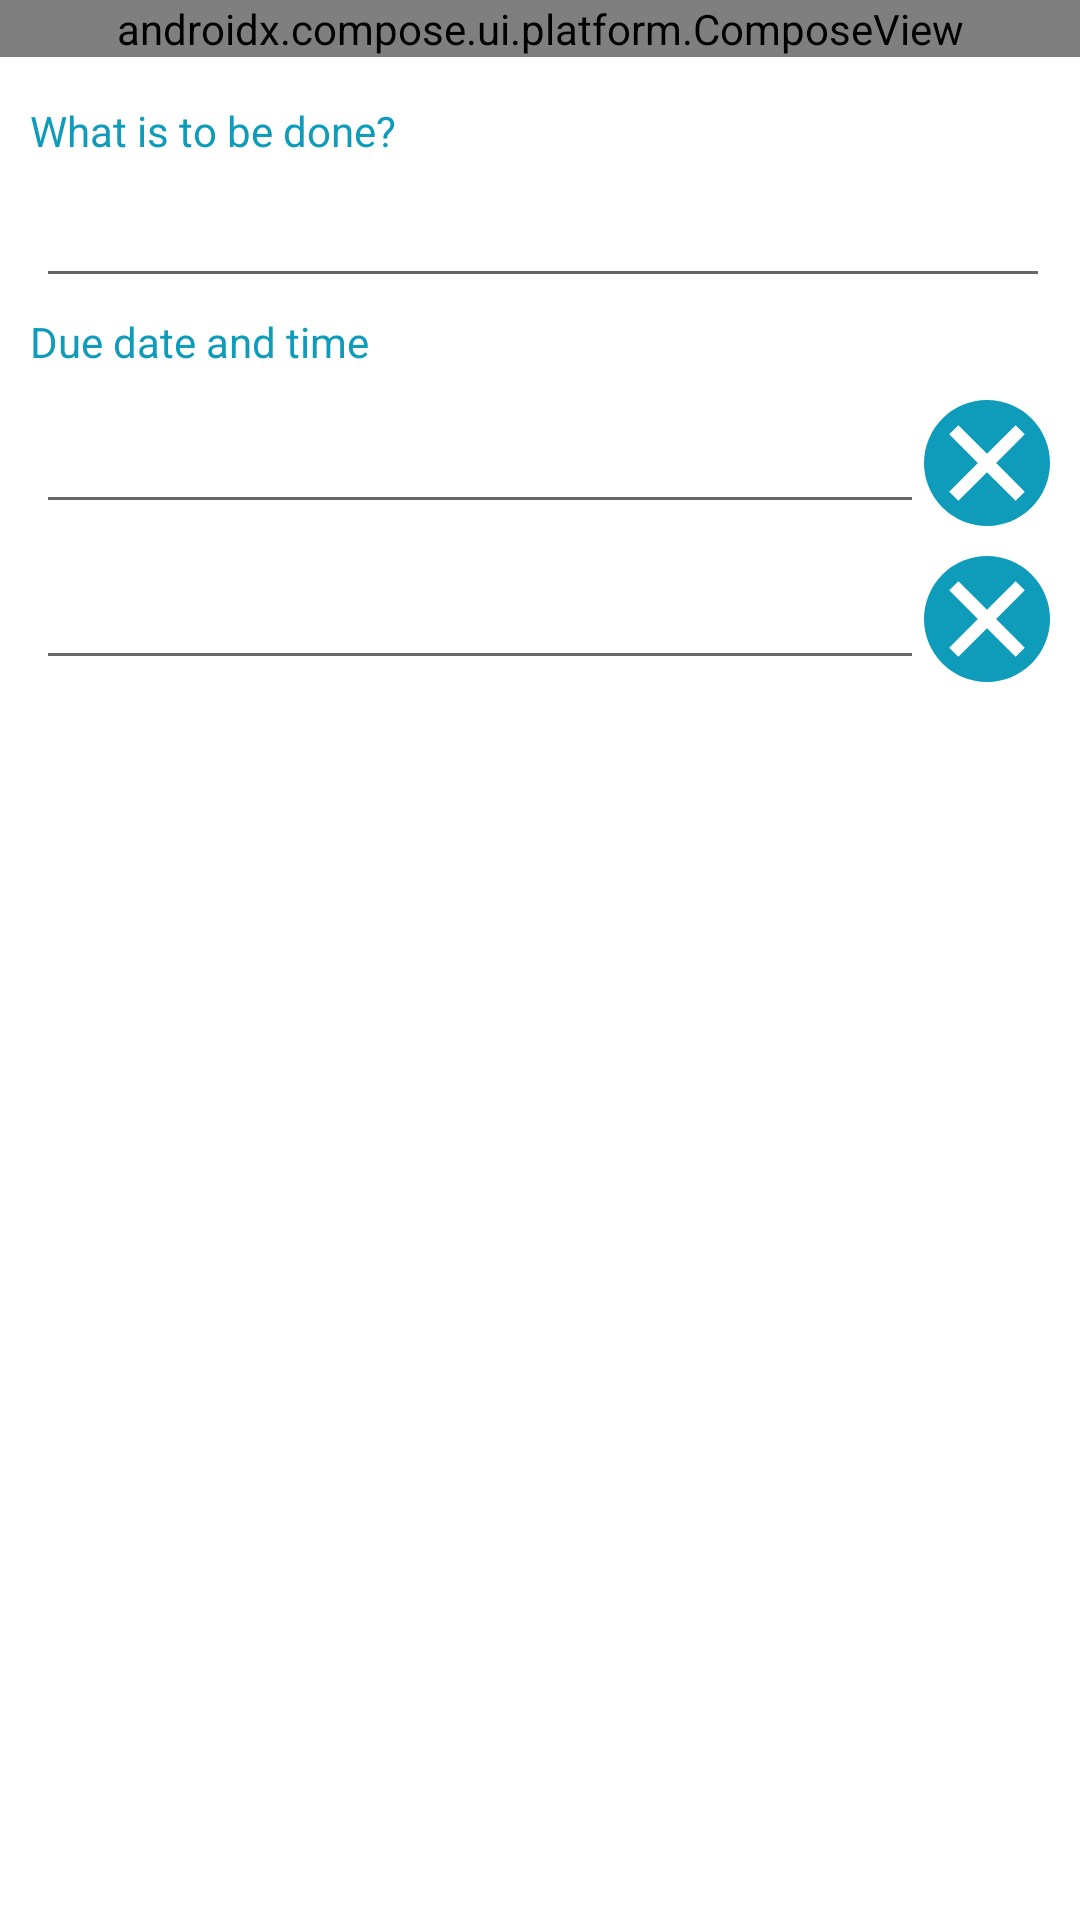

Named icons in this screenshot (1080px x 1920px) and their centers, (x=x, y=y):
close: (x=987, y=463), (x=987, y=619)
